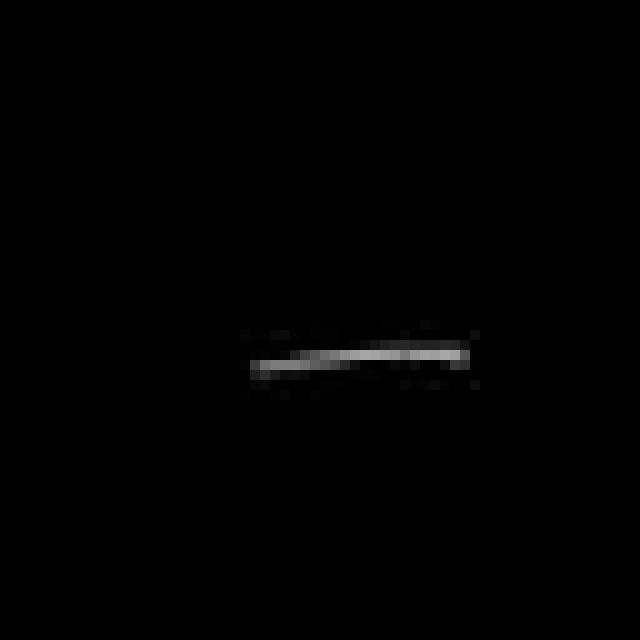1 -one-: (249, 336, 468, 396)
